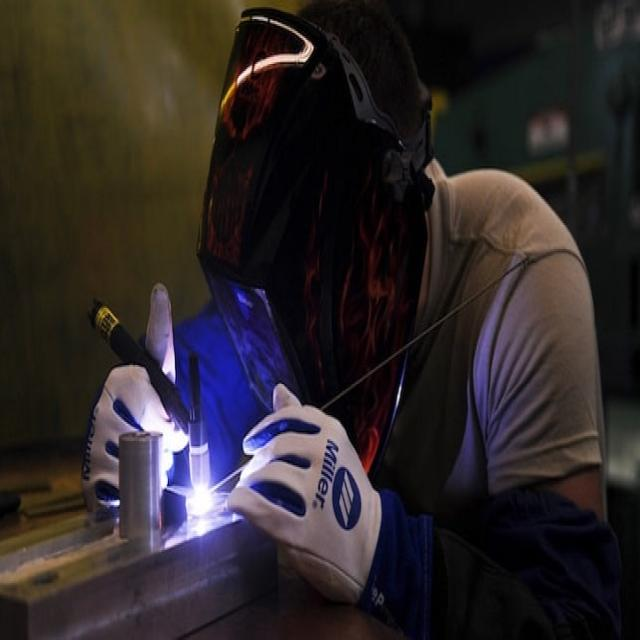welding: (187, 484, 213, 516)
